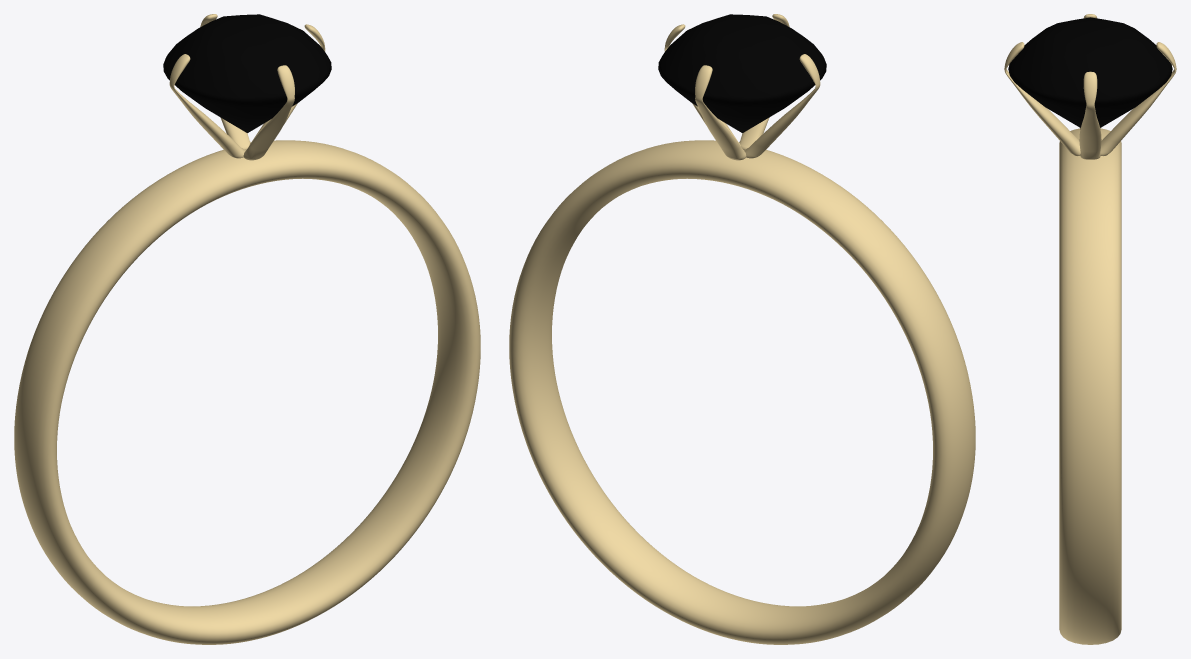
File: Ring.fbx
The picture shows the model from 3 angles, left to right: view 1: azimuth 30°, elevation 25°; view 2: azimuth 150°, elevation 25°; view 3: azimuth 270°, elevation 25°; orthographic projection. The views are drawn at different scales.
Parts seen in each view (by area): view 1: Empty_Mesh; view 2: Empty_Mesh; view 3: Empty_Mesh.
Boxes of the visible parts, bbox=[...] form: Empty_Mesh: bbox=[14, 14, 480, 644]; Empty_Mesh: bbox=[509, 14, 975, 644]; Empty_Mesh: bbox=[1004, 14, 1176, 644].
Bounding box in the file's own units: 18.98 × 24.31 × 6.44.
